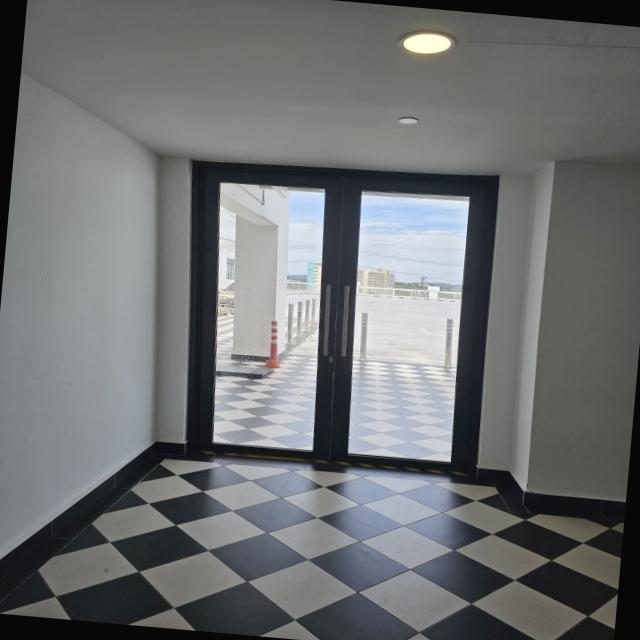door: (154, 151, 509, 482)
footpath: (0, 445, 537, 640)
